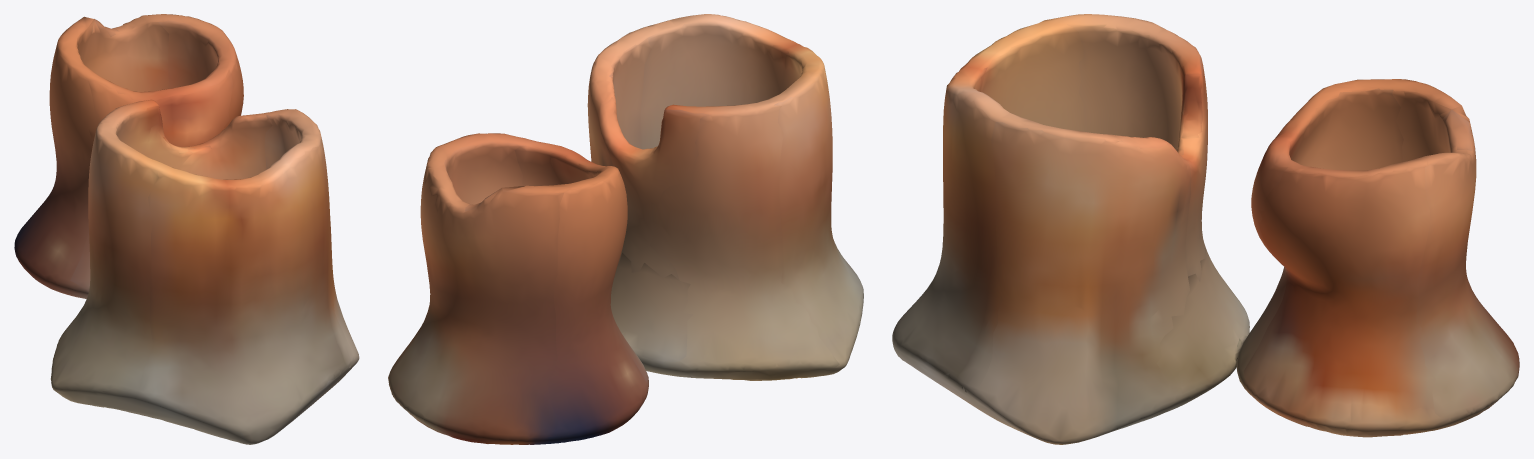
The model's file is jarra_sabana4.glb.
3 renders of one model, left to right at view 1: azimuth 30°, elevation 25°; view 2: azimuth 150°, elevation 25°; view 3: azimuth 270°, elevation 25°, orthographic. The views are drawn at different scales.
Parts seen in each view (by area): view 1: material.004; view 2: material.004; view 3: material.004.
Part boxes in pixels (x1,y1,x2,y2): material.004: (14,14,359,444); material.004: (388,14,863,444); material.004: (892,14,1519,444).
Size of the model in its own units: 0.0581 by 0.048 by 0.0879.
Materials: 1 (1 with a texture image).
